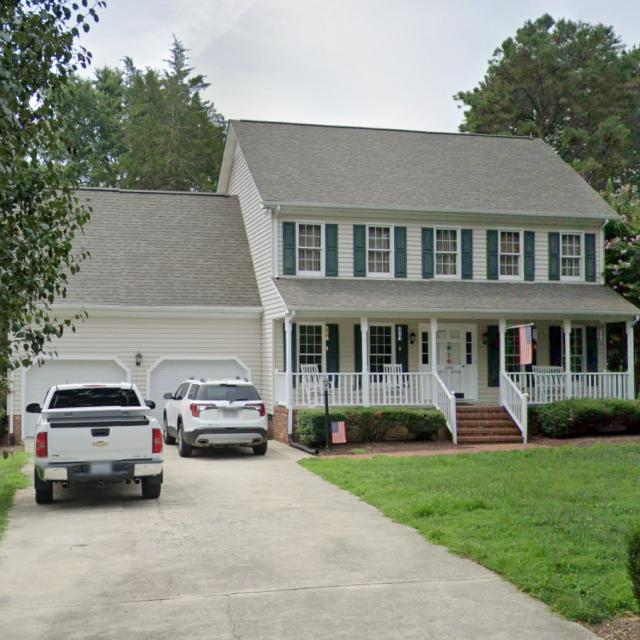House: (0, 119, 640, 449)
